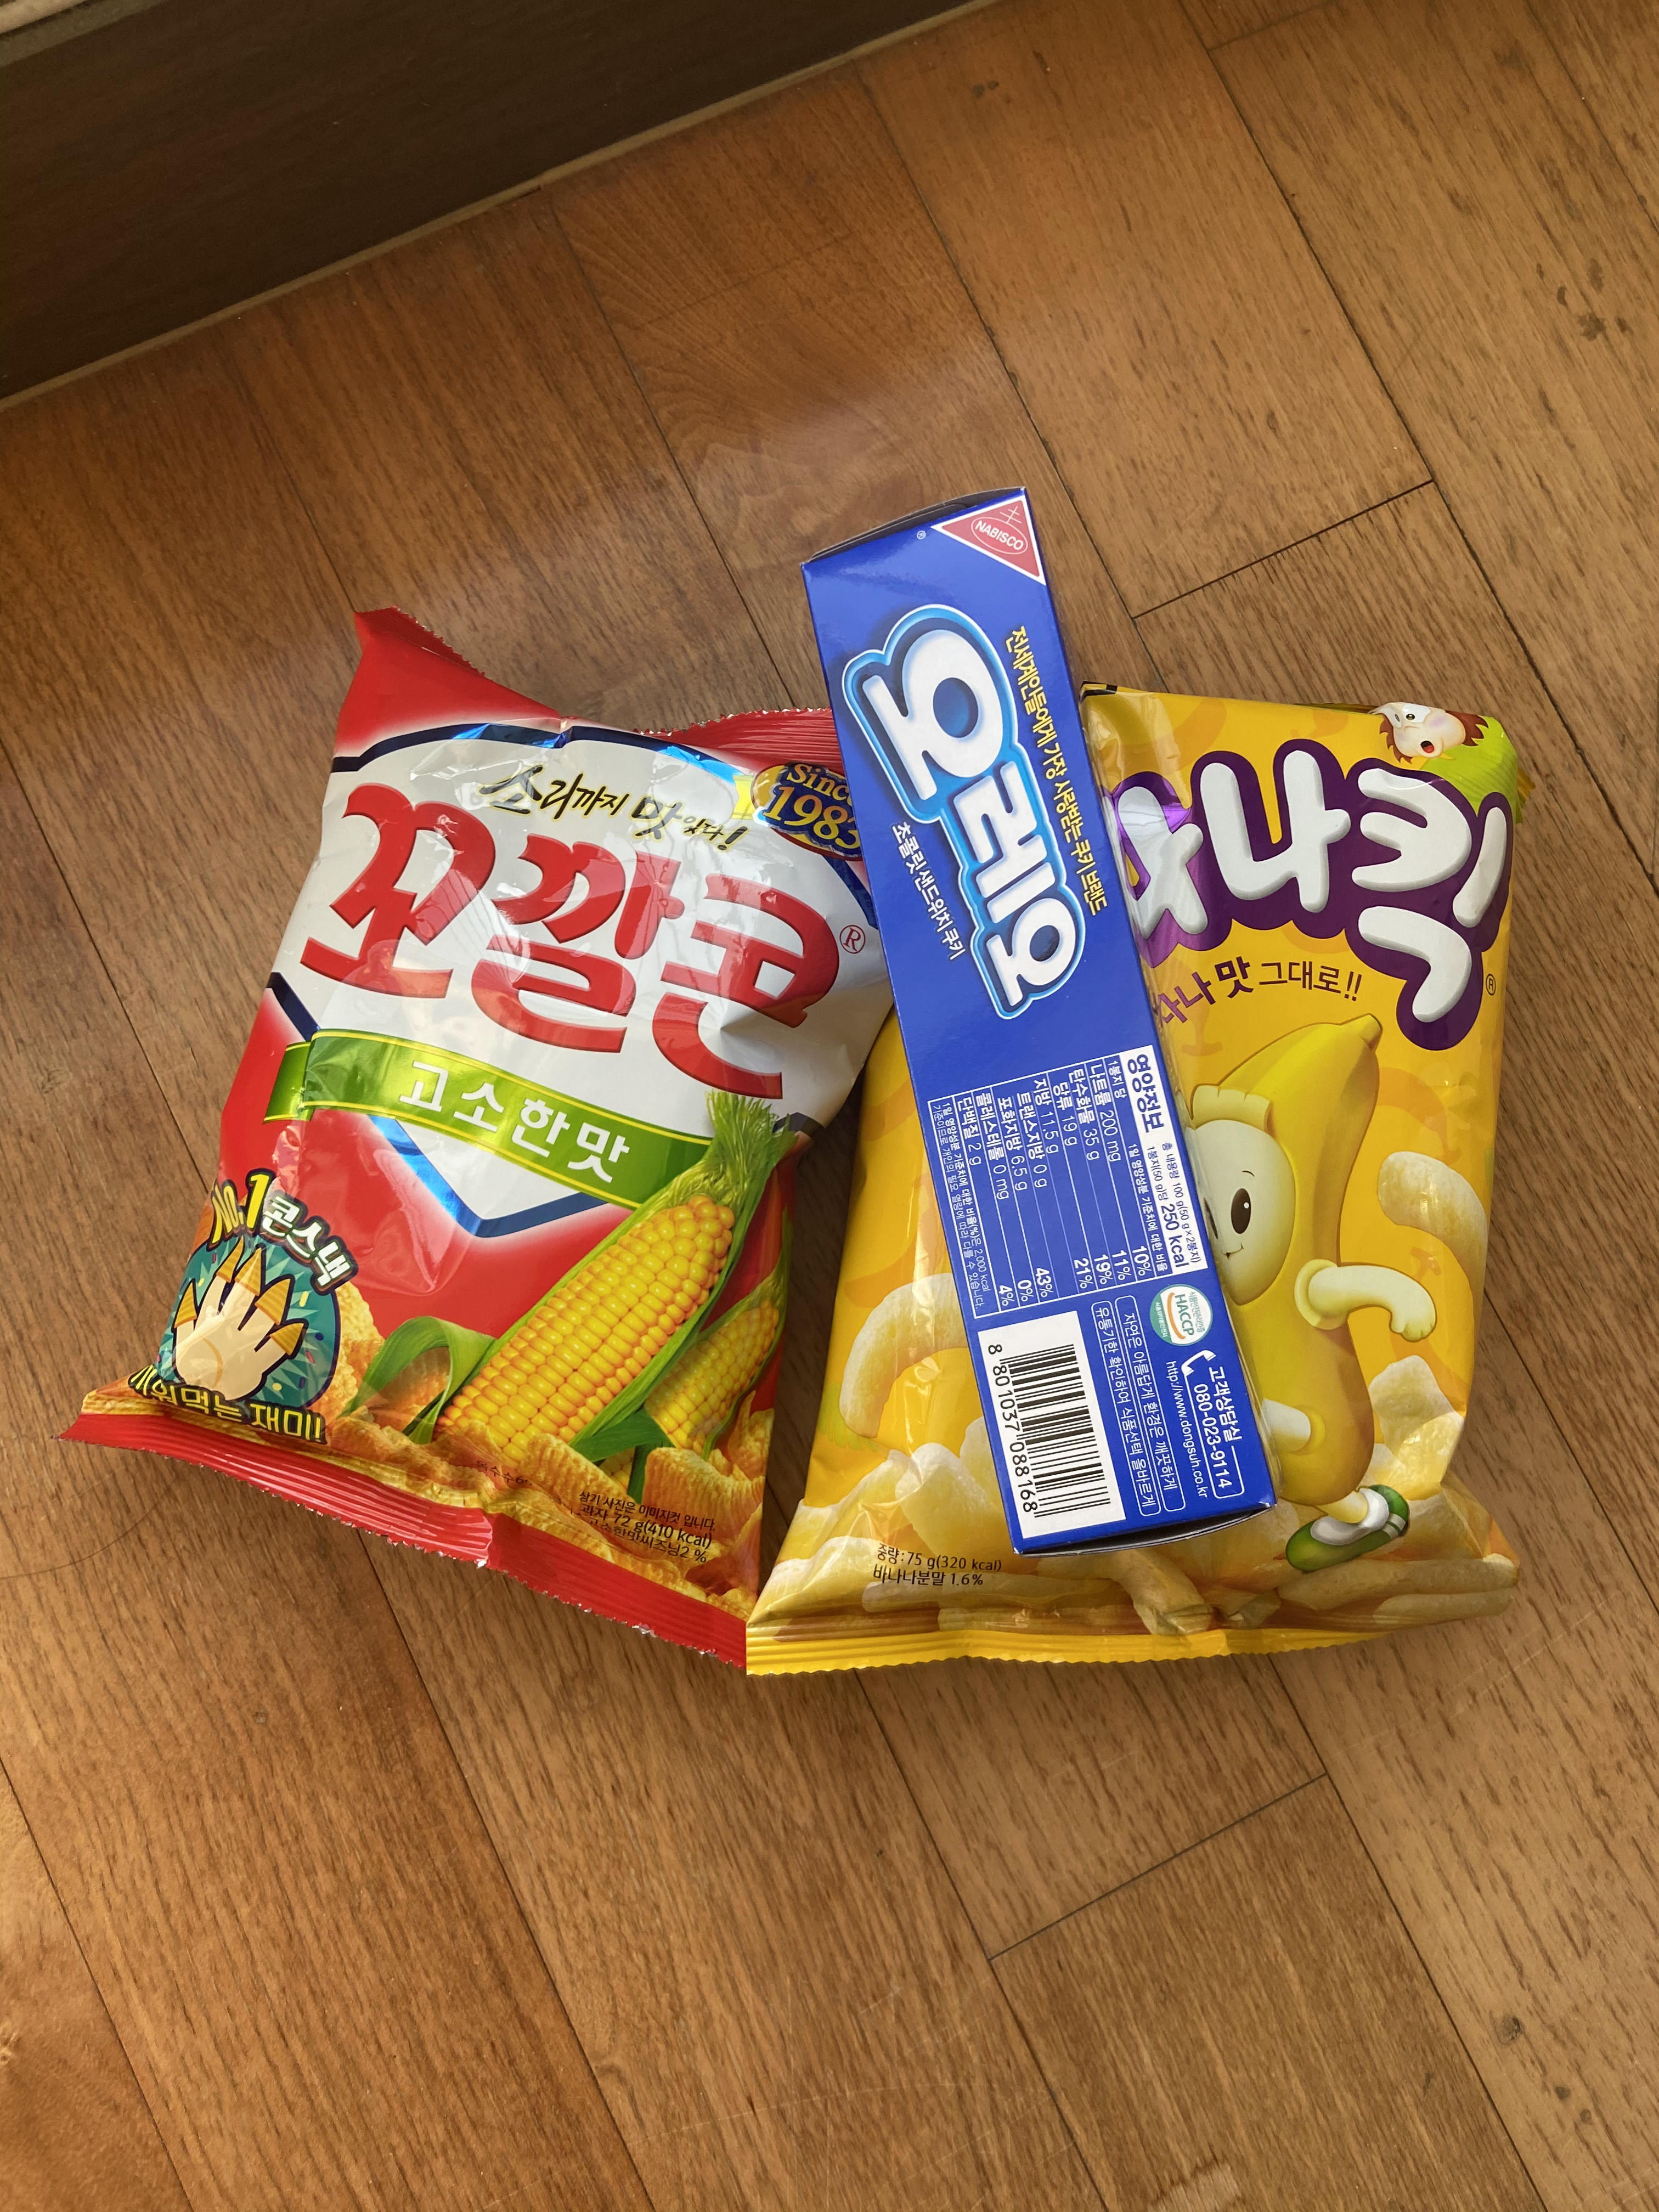banana: (739, 643, 1554, 1688)
ggoggalcon: (37, 594, 925, 1691)
oreo: (777, 467, 1272, 1573)
